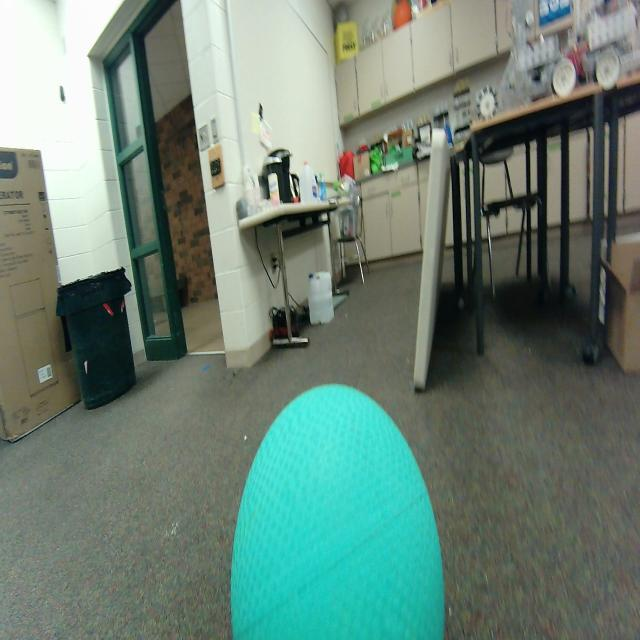algae: (228, 385, 461, 640)
